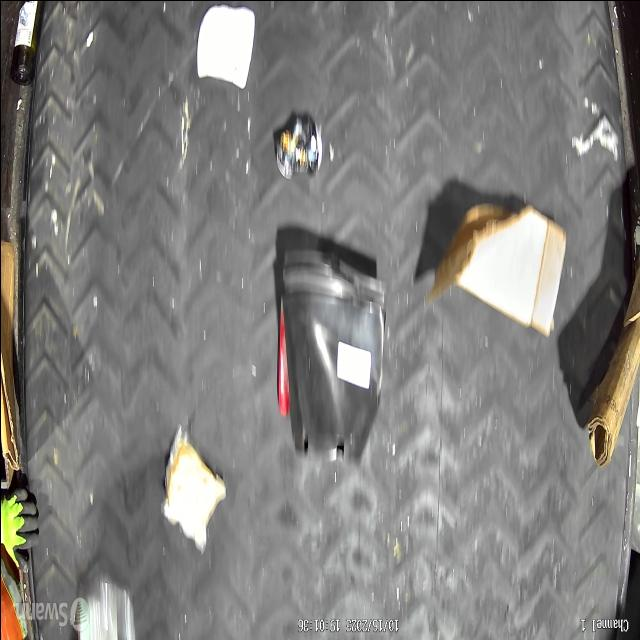can: (160, 427, 224, 549), (274, 115, 322, 177)
non_white_jug: (278, 252, 383, 468)
